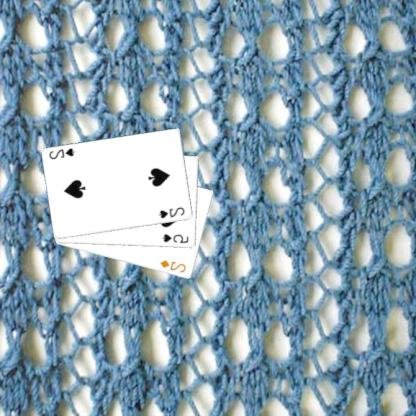2D: (160, 257, 190, 274)
2S: (158, 204, 188, 220), (49, 145, 78, 161)
5S: (162, 232, 192, 244)
